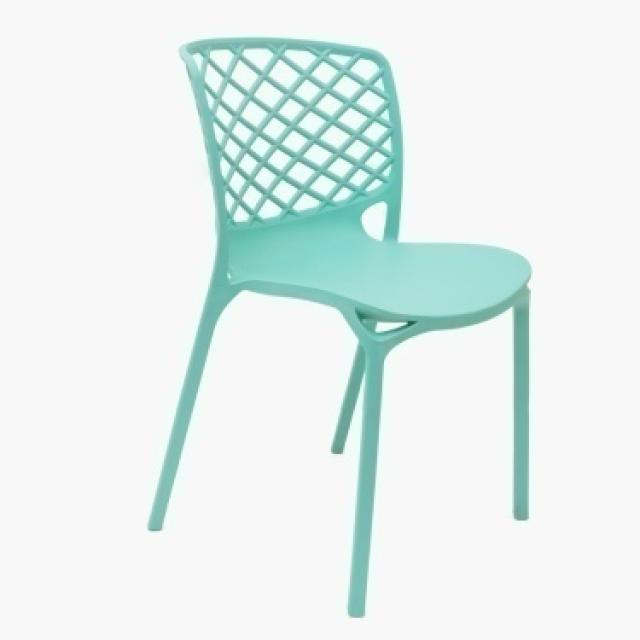Chair: (150, 35, 553, 621)
